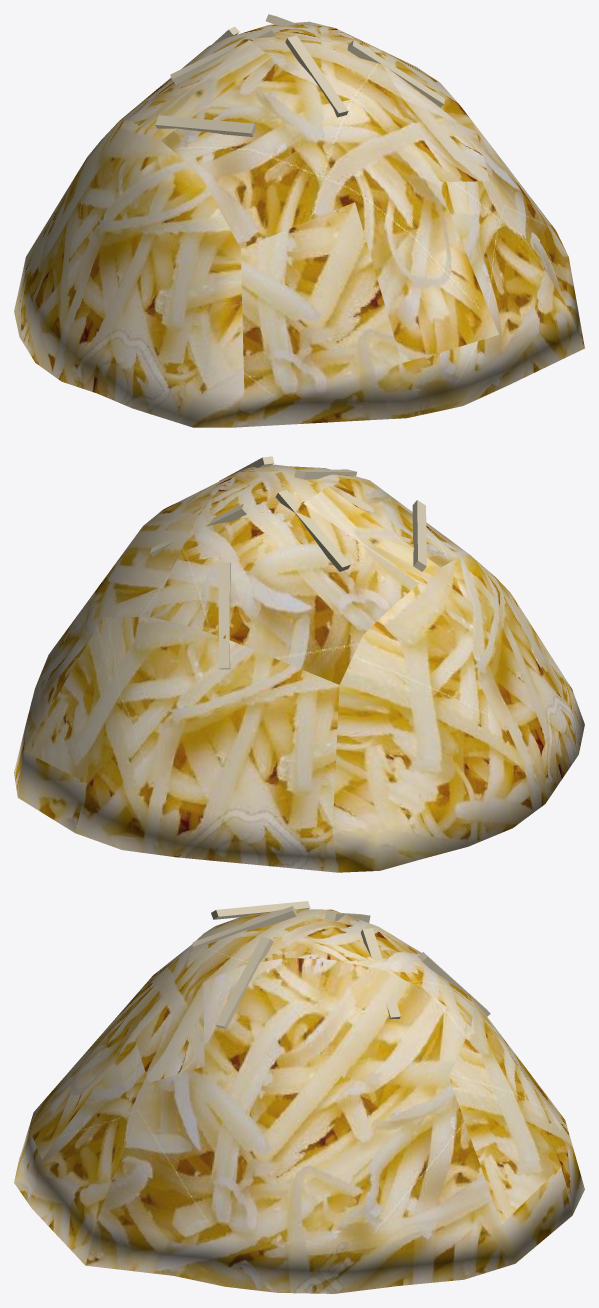
File: CheeseGrated.fbx
3 renders of one model, top to bottom at view 1: azimuth 30°, elevation 25°; view 2: azimuth 150°, elevation 25°; view 3: azimuth 270°, elevation 25°, orthographic. The views are drawn at different scales.
Visible parts, largest first — view 1: pCube1, pasted__pCube2 (×2), pasted__pCube3, pCube2; view 2: pCube1, pasted__pasted__pasted__pCube2, pasted__pCube2, pasted__pCube3, pasted__pasted__pCube2; view 3: pCube1, pasted__pCube2, pCube2, pasted__pCube3, pasted__pasted__pCube2.
Part boxes in pixels (x1=…): pCube1: x1=14, y1=21, x2=584, y2=427; pasted__pCube2 (×2): x1=170, y1=25, x2=444, y2=107; pasted__pCube3: x1=155, y1=115, x2=256, y2=136; pCube2: x1=285, y1=35, x2=348, y2=117; pCube1: x1=14, y1=464, x2=584, y2=872; pasted__pasted__pasted__pCube2: x1=218, y1=562, x2=230, y2=669; pasted__pCube2: x1=275, y1=489, x2=350, y2=571; pasted__pCube3: x1=412, y1=500, x2=426, y2=571; pasted__pasted__pCube2: x1=149, y1=503, x2=248, y2=556; pCube1: x1=14, y1=909, x2=584, y2=1293; pasted__pCube2: x1=215, y1=937, x2=273, y2=1029; pCube2: x1=192, y1=906, x2=296, y2=951; pasted__pCube3: x1=211, y1=901, x2=310, y2=919; pasted__pasted__pCube2: x1=360, y1=928, x2=400, y2=1018.
Bounding box in the file's own units: 5.08 × 2.89 × 5.29.
